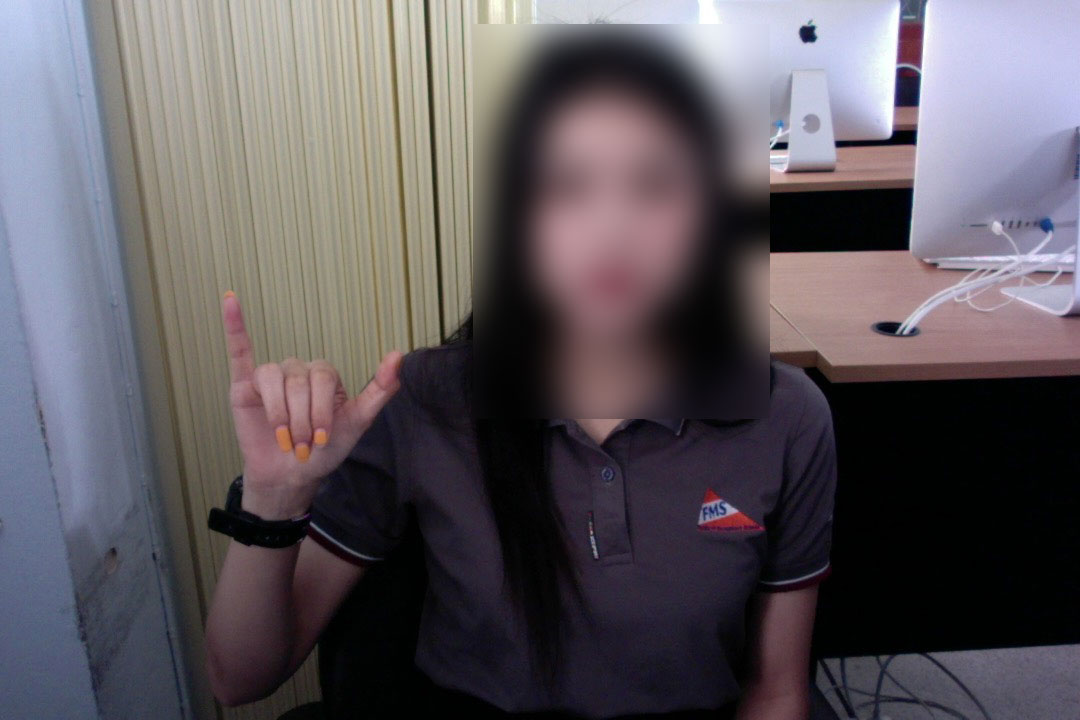yor: (214, 281, 413, 505)
